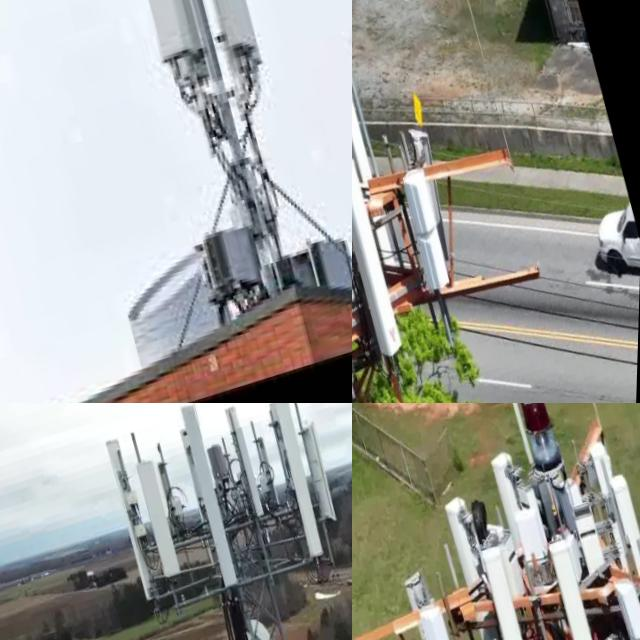GSM Antenna: (91, 415, 173, 608), (171, 403, 248, 594), (352, 150, 413, 356), (257, 403, 334, 560), (393, 156, 465, 305), (535, 528, 627, 640), (468, 540, 561, 640), (130, 449, 187, 580), (482, 446, 546, 554), (115, 0, 206, 75), (178, 0, 274, 71), (439, 488, 491, 581), (599, 474, 640, 586), (230, 426, 271, 524), (352, 75, 383, 190), (582, 438, 626, 512), (408, 596, 480, 640), (606, 573, 640, 640)
Microwave Antenna: (234, 612, 284, 640)
